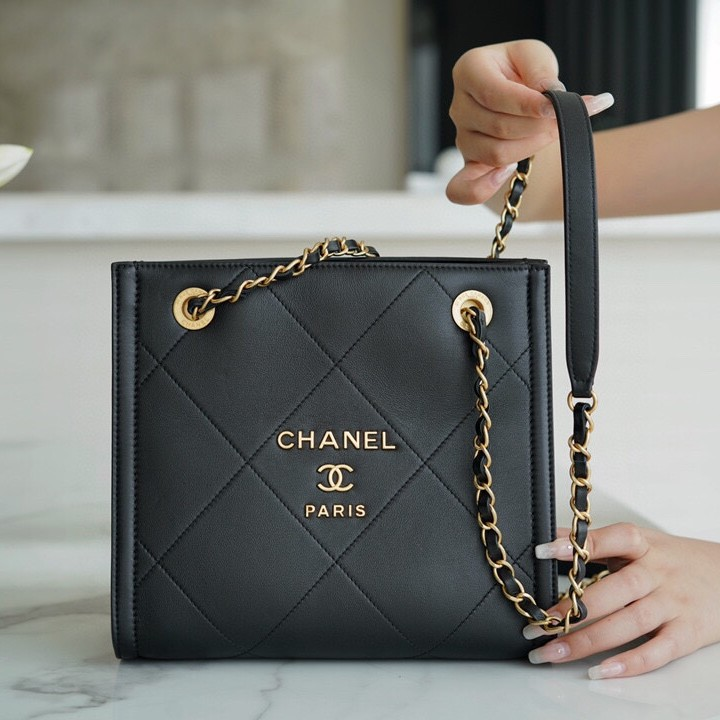channel: (95, 244, 600, 672), (461, 321, 535, 632), (265, 418, 411, 459), (309, 455, 360, 498)
